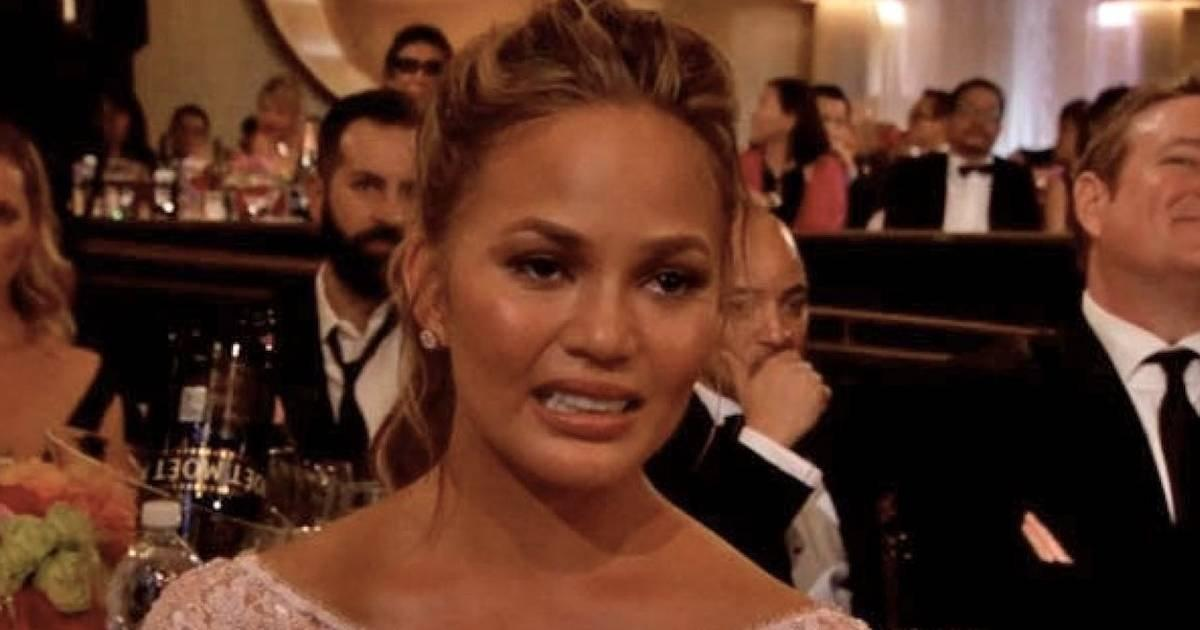Drunk: (452, 119, 714, 480)
